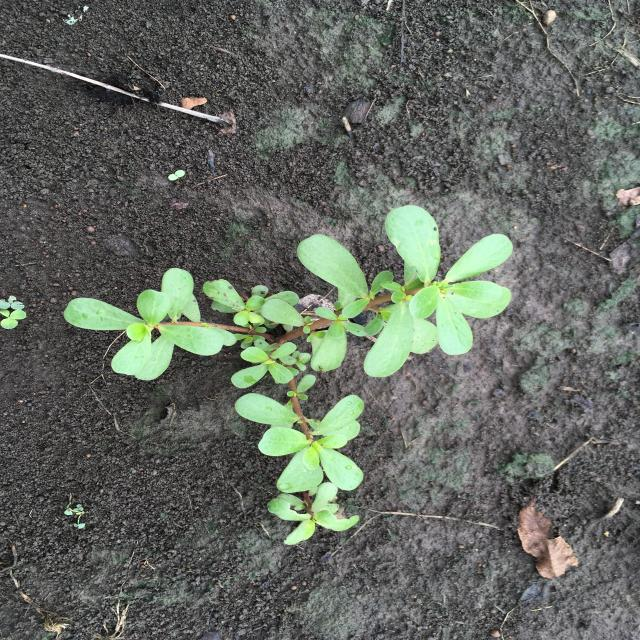Purslane: (63, 205, 513, 545)
